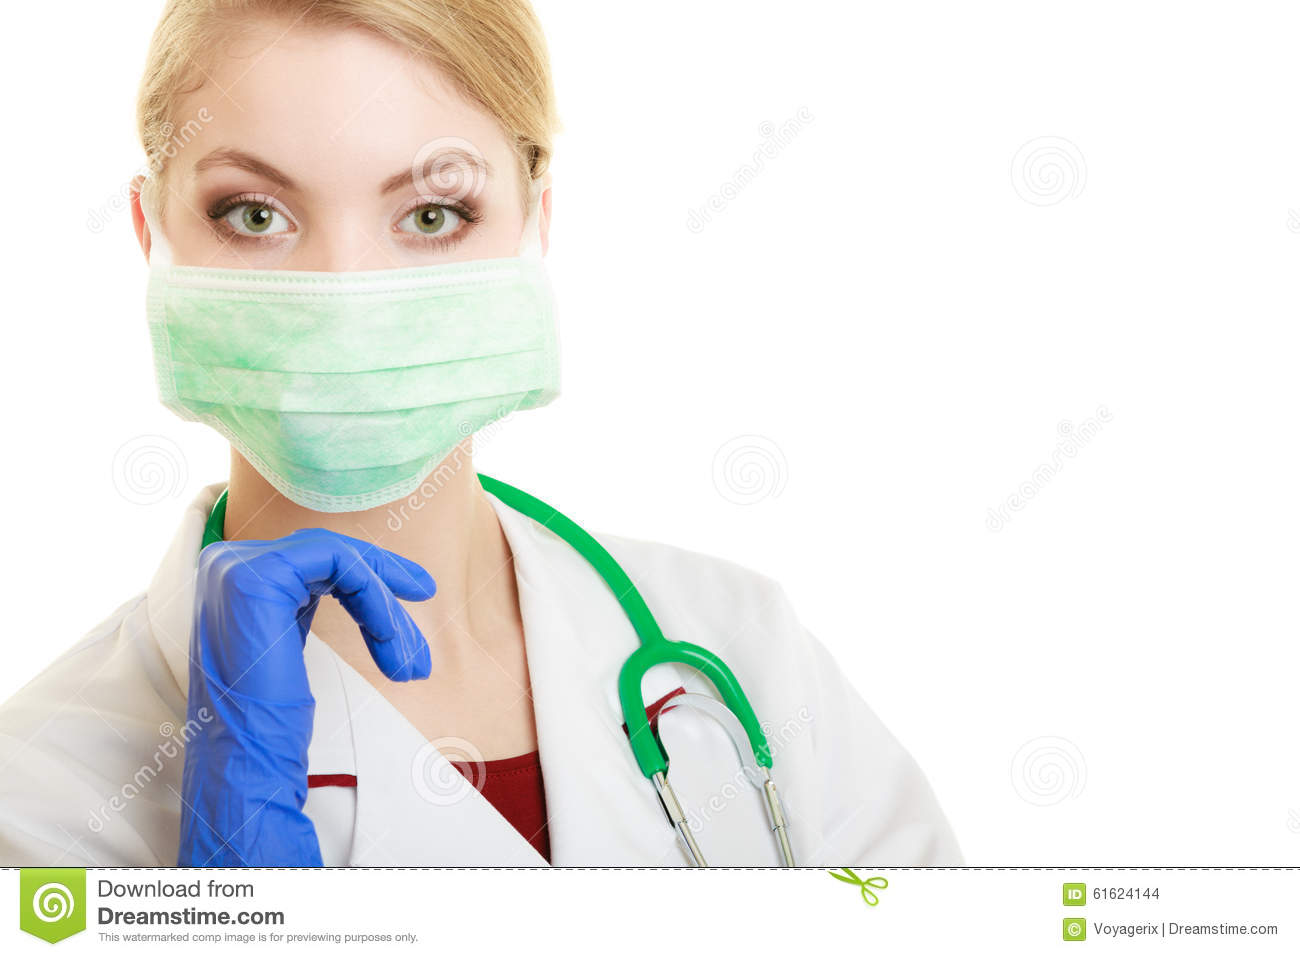mask: (136, 255, 573, 495)
